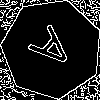A: (27, 24, 84, 80)
